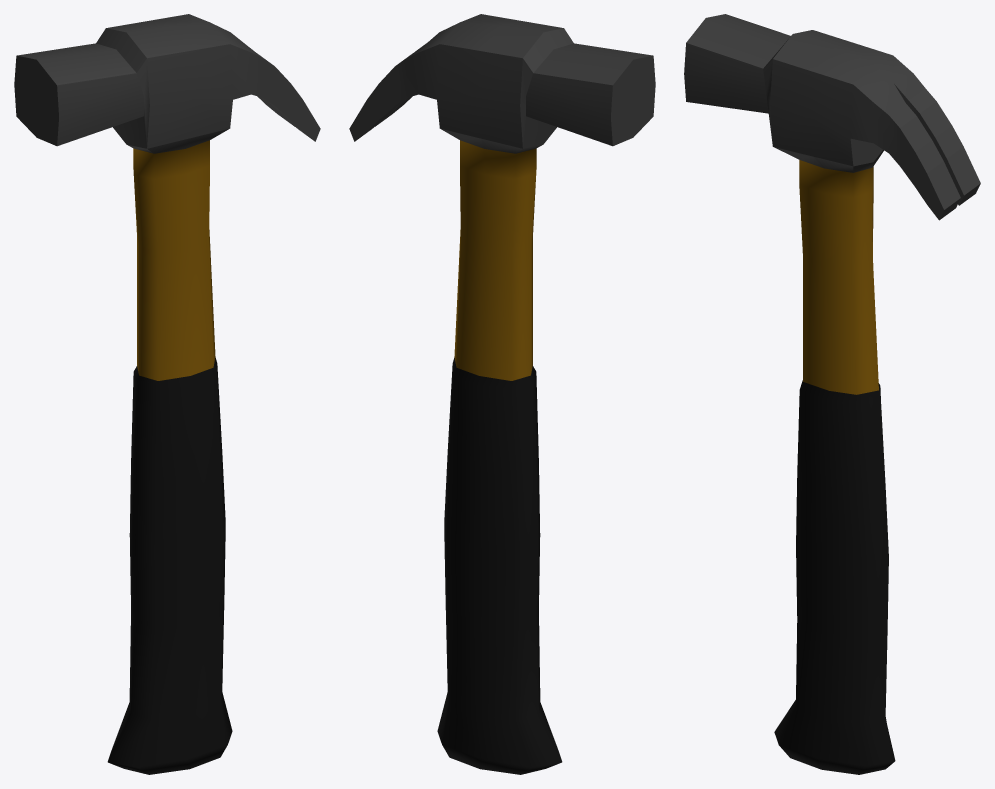
The model's file is Hammer_OBJ.obj.
3 views of the same model, side by side, from view 1: azimuth 30°, elevation 25°; view 2: azimuth 150°, elevation 25°; view 3: azimuth 330°, elevation 25° (orthographic). The views are drawn at different scales.
Parts seen in each view (by area): view 1: Hammer_mesh; view 2: Hammer_mesh; view 3: Hammer_mesh.
Boxes of the visible parts, bbox=[...] form: Hammer_mesh: bbox=[14, 14, 320, 774]; Hammer_mesh: bbox=[349, 14, 655, 774]; Hammer_mesh: bbox=[684, 14, 980, 774].
Size of the model in its own units: 9.45 by 25.07 by 2.9.
